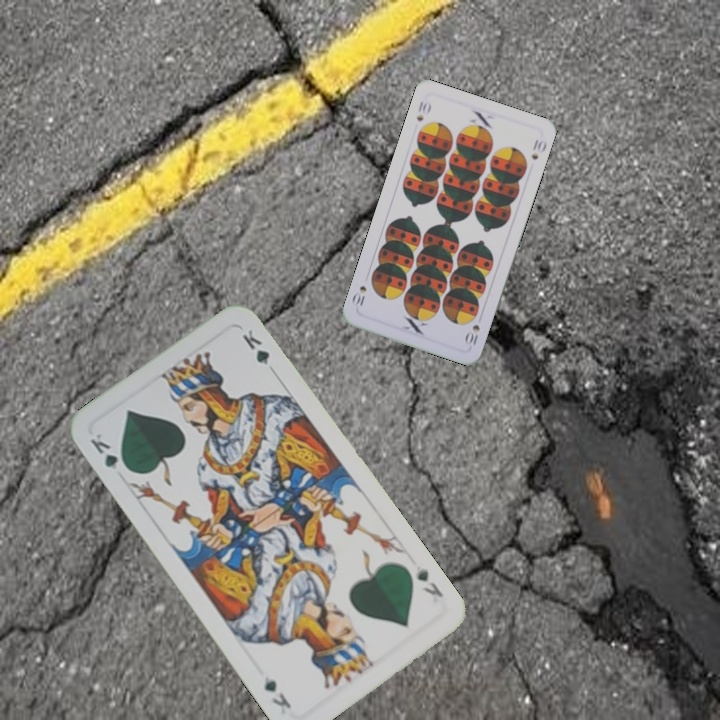GK: (86, 429, 133, 475), (412, 564, 446, 600)
S10: (462, 320, 482, 348), (412, 97, 429, 124)
